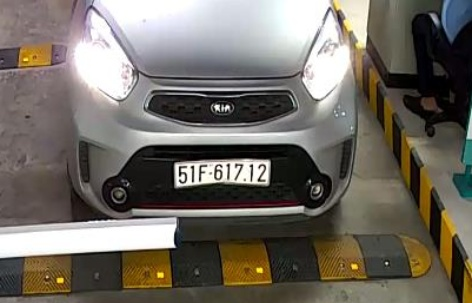plate: (172, 149, 281, 195)
